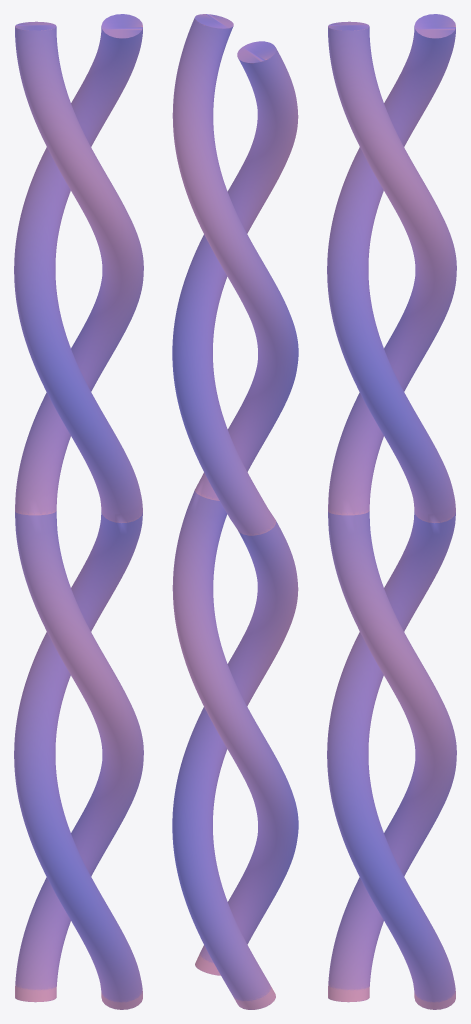
Rendered from helix.glb.
The picture shows the model from 3 angles, left to right: view 1: azimuth 90°, elevation 25°; view 2: azimuth 210°, elevation 25°; view 3: azimuth 270°, elevation 25°; orthographic projection. The views are drawn at different scales.
Visible parts, largest first — view 1: Helix.001; view 2: Helix.001; view 3: Helix.001.
Part boxes in pixels (x1,y1,x2,y2): Helix.001: (14, 14, 143, 1009); Helix.001: (172, 14, 298, 1009); Helix.001: (327, 14, 456, 1009).
Bounding box in the file's own units: 1.92 × 16.1 × 1.93.
Materials: 1 (1 with a texture image).
